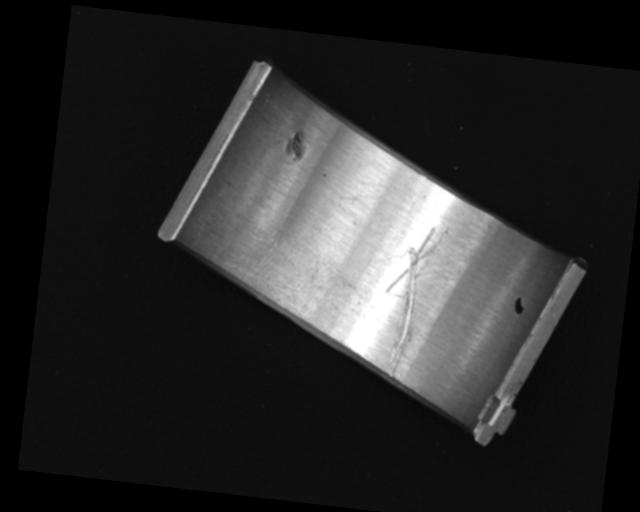blot: (511, 294, 527, 316)
bruise: (283, 127, 308, 162)
nick: (372, 222, 447, 384)
scratch: (205, 226, 340, 322)
